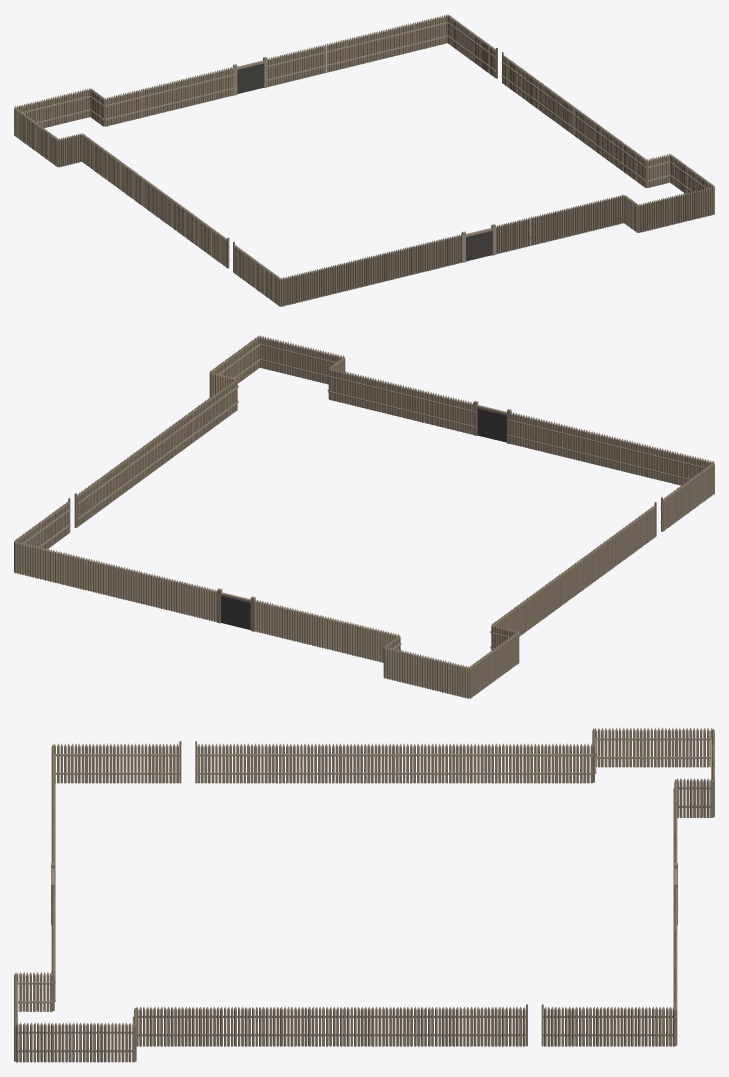
File: fort_dearborn_palisade__picket_1816.glb
3 renders of one model, top to bottom at view 1: azimuth 30°, elevation 25°; view 2: azimuth 150°, elevation 25°; view 3: azimuth 270°, elevation 25°, orthographic. The views are drawn at different scales.
Visible parts, largest first — view 1: fort_dearborn_palisade__picket_1816; view 2: fort_dearborn_palisade__picket_1816; view 3: fort_dearborn_palisade__picket_1816.
Boxes of the visible parts, x1=… form: fort_dearborn_palisade__picket_1816: x1=14, y1=14, x2=714, y2=306; fort_dearborn_palisade__picket_1816: x1=14, y1=335, x2=714, y2=698; fort_dearborn_palisade__picket_1816: x1=14, y1=727, x2=714, y2=1062.
Size of the model in its own units: 59.65 by 3.88 by 59.65.
